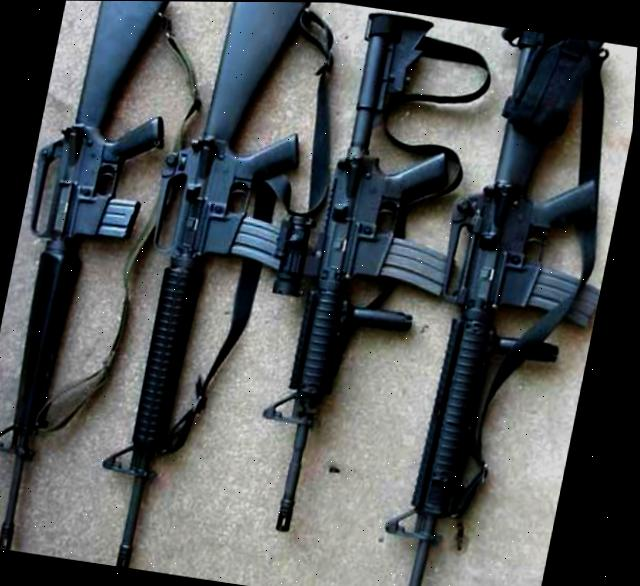rifle: (218, 1, 491, 556), (372, 22, 639, 586), (79, 1, 331, 580), (0, 0, 196, 561)
